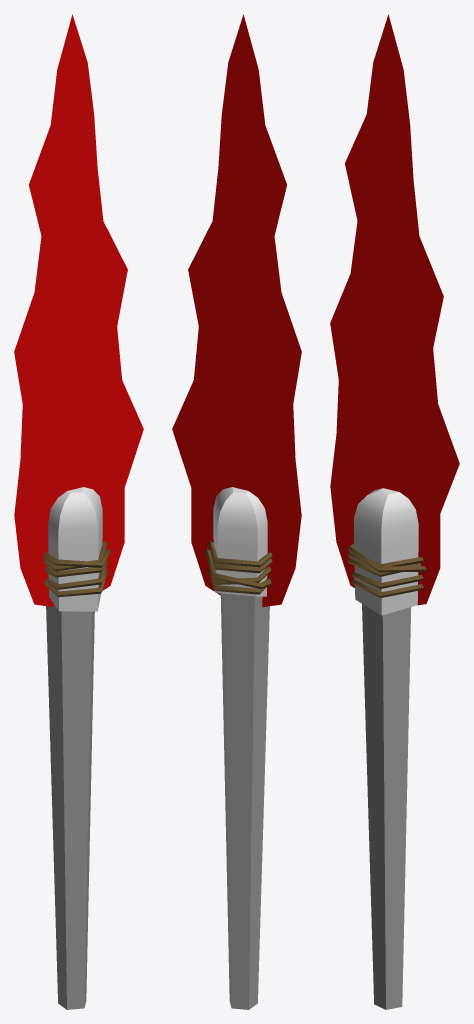
Rendered from Torch.fbx.
3 views of the same model, side by side, from view 1: azimuth 30°, elevation 25°; view 2: azimuth 150°, elevation 25°; view 3: azimuth 330°, elevation 25° (orthographic).
Parts seen in each view (by area): view 1: pasted__pHelix1; view 2: pasted__pHelix1; view 3: pasted__pHelix1.
Part boxes in pixels (bbox=[...]): pasted__pHelix1: bbox=[14, 14, 143, 1009]; pasted__pHelix1: bbox=[172, 14, 301, 1009]; pasted__pHelix1: bbox=[330, 14, 459, 1009].
Bounding box in the file's own units: 0.6235 × 4.54 × 0.3339.
